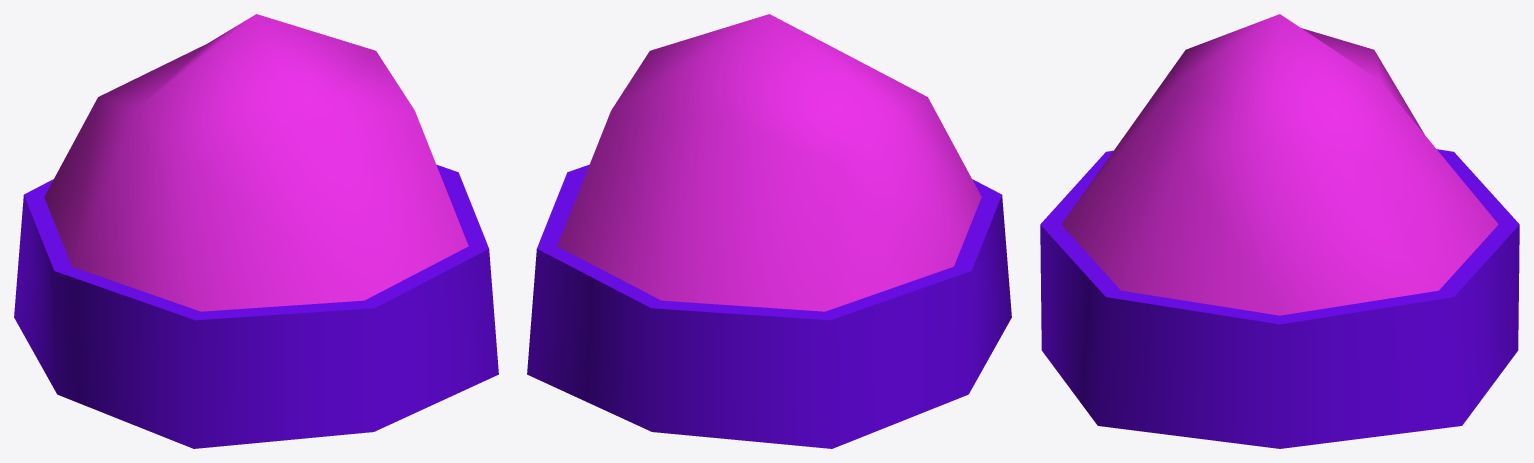
File: Smoker_Beani.fbx
3 views of the same model, side by side, from view 1: azimuth 30°, elevation 25°; view 2: azimuth 150°, elevation 25°; view 3: azimuth 270°, elevation 25° (orthographic).
Parts seen in each view (by area): view 1: Beani; view 2: Beani; view 3: Beani.
Part boxes in pixels (x1,y1,x2,y2): Beani: (14,14,498,448); Beani: (527,14,1011,448); Beani: (1040,14,1519,448).
Bounding box in the file's own units: 208 × 163 × 211.
